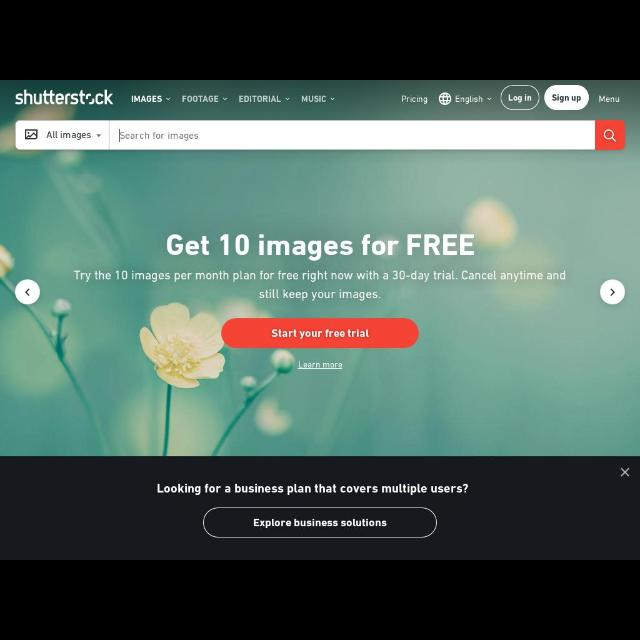backgroundimage: (1, 81, 639, 456)
button: (600, 280, 626, 304), (15, 280, 40, 304)
icon: (438, 92, 452, 106), (604, 130, 616, 142), (620, 468, 630, 478), (25, 130, 37, 138), (610, 288, 616, 296), (26, 288, 30, 296), (97, 134, 101, 138), (166, 98, 170, 100), (223, 98, 227, 100), (286, 98, 290, 100), (488, 98, 492, 100), (332, 98, 334, 100)
image: (15, 90, 114, 104)
input: (16, 120, 624, 150)
spinner: (47, 132, 101, 140), (240, 96, 290, 102), (456, 96, 492, 104), (181, 96, 227, 102), (132, 96, 170, 102), (302, 96, 334, 102)
text: (74, 270, 566, 302), (168, 233, 474, 261), (156, 483, 468, 495), (253, 519, 387, 529), (272, 329, 370, 338), (120, 131, 198, 141), (46, 132, 92, 140), (298, 361, 342, 369), (240, 96, 282, 102), (553, 95, 581, 103), (182, 96, 218, 102), (508, 95, 532, 104), (402, 96, 428, 104), (456, 96, 482, 104), (132, 96, 162, 102), (302, 96, 326, 102), (600, 96, 620, 102)
textbutton: (203, 507, 437, 538), (222, 318, 420, 348), (545, 86, 589, 110), (500, 86, 540, 110)
toolbar: (0, 80, 638, 114)
